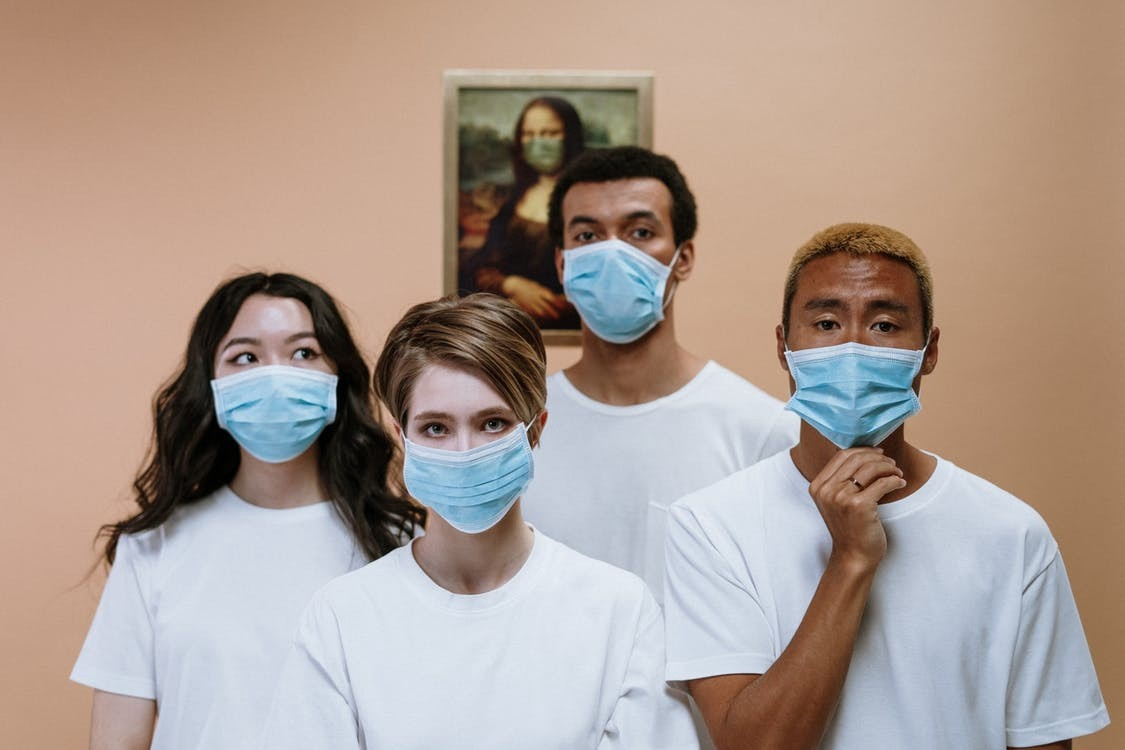with_mask: (776, 245, 938, 463), (390, 350, 542, 531), (198, 289, 351, 456), (561, 170, 685, 342), (509, 102, 576, 171)
